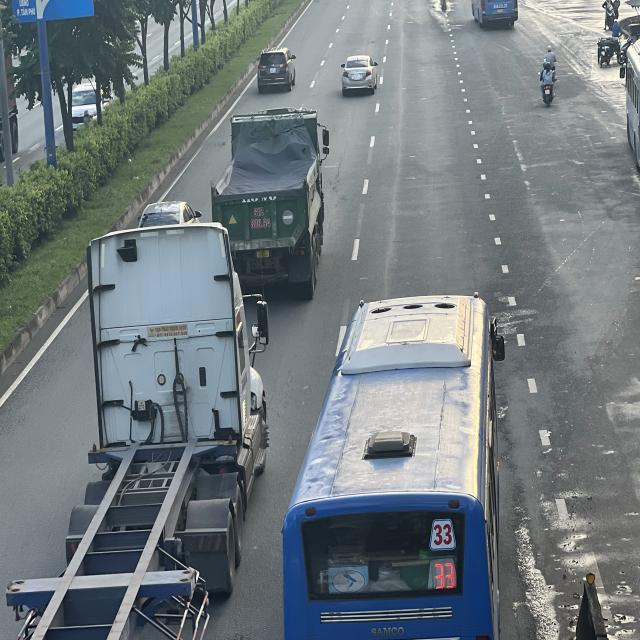car: (257, 47, 298, 93), (341, 56, 379, 97)
coach: (282, 292, 506, 640), (470, 0, 518, 26)
container: (30, 225, 268, 627), (213, 106, 333, 297)
